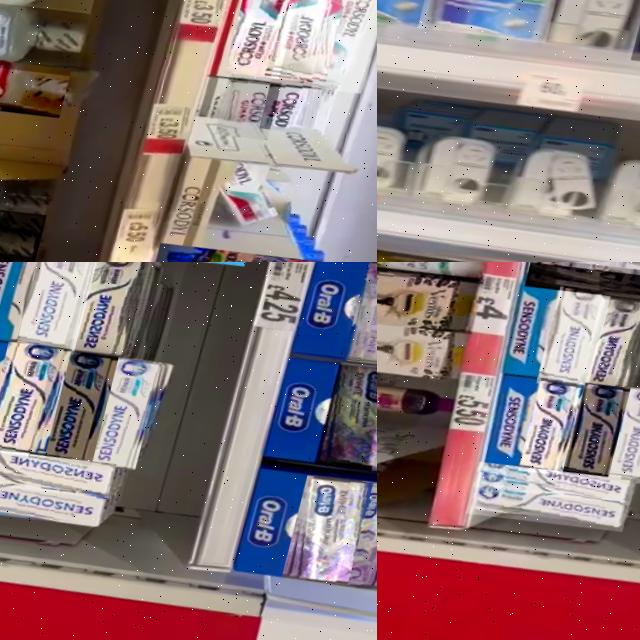Mouthwash: (0, 32, 74, 135), (0, 175, 50, 262)
Other: (377, 262, 486, 345), (377, 307, 476, 398), (151, 233, 354, 262), (377, 368, 460, 433), (377, 262, 491, 296)
Toothbrush: (522, 262, 640, 332), (0, 262, 253, 292), (523, 262, 640, 310)
Toothpaste: (466, 473, 633, 550), (474, 452, 640, 523), (29, 347, 120, 474), (285, 479, 377, 599), (0, 429, 120, 517), (83, 357, 164, 479), (0, 459, 111, 545), (0, 339, 73, 465), (537, 285, 613, 398), (16, 262, 102, 360), (70, 262, 151, 366), (561, 384, 632, 488), (316, 368, 377, 484), (520, 378, 586, 483), (579, 292, 640, 402), (216, 80, 284, 152), (340, 486, 377, 603), (602, 388, 640, 495), (344, 265, 377, 380), (261, 81, 315, 145)
